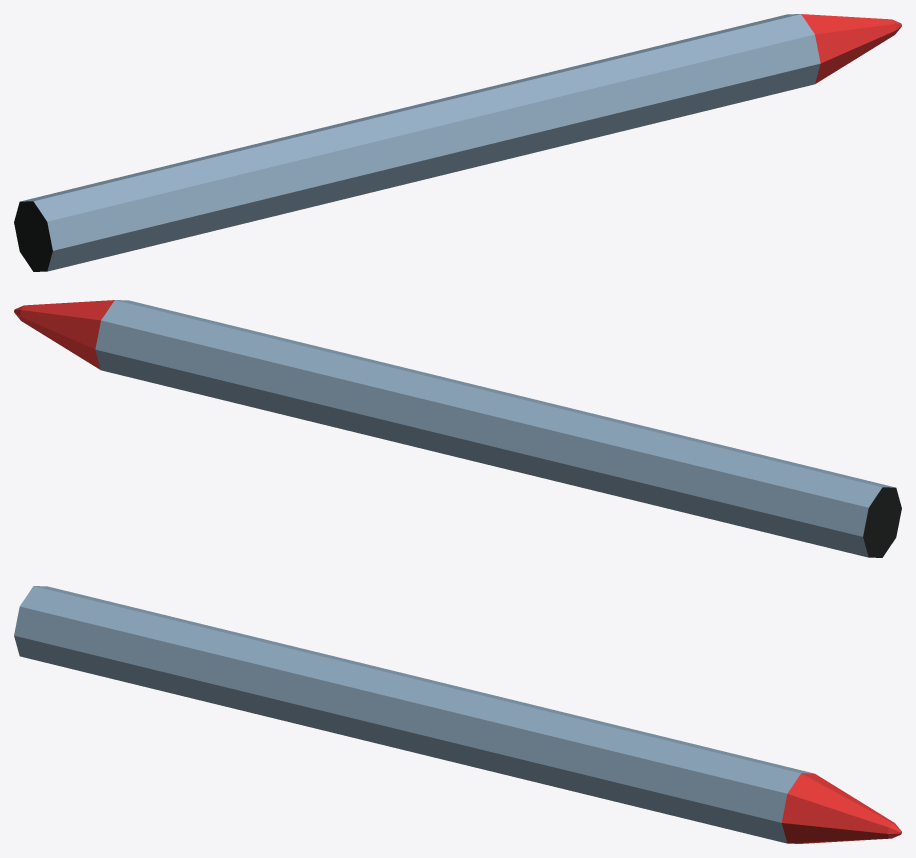
Rendered from Pen_Red.fbx.
3 renders of one model, top to bottom at view 1: azimuth 30°, elevation 25°; view 2: azimuth 150°, elevation 25°; view 3: azimuth 330°, elevation 25°, orthographic.
Visible parts, largest first — view 1: Red_pen; view 2: Red_pen; view 3: Red_pen.
Boxes of the visible parts, left/top/right/bottom form: Red_pen: left=14, top=14, right=901, bottom=271; Red_pen: left=14, top=300, right=901, bottom=557; Red_pen: left=14, top=586, right=901, bottom=843.
Bounding box in the file's own units: 0.161 × 0.0125 × 0.0125.
